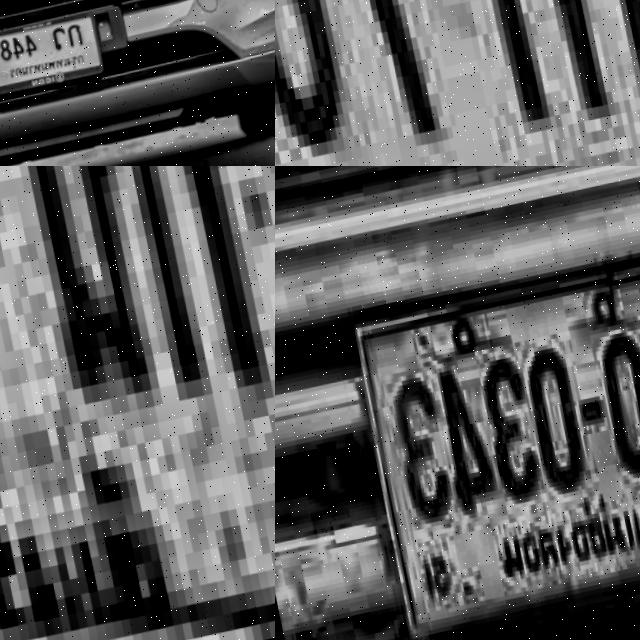license-plate: (0, 166, 275, 640), (331, 234, 640, 640), (275, 0, 640, 166), (0, 16, 100, 100)
